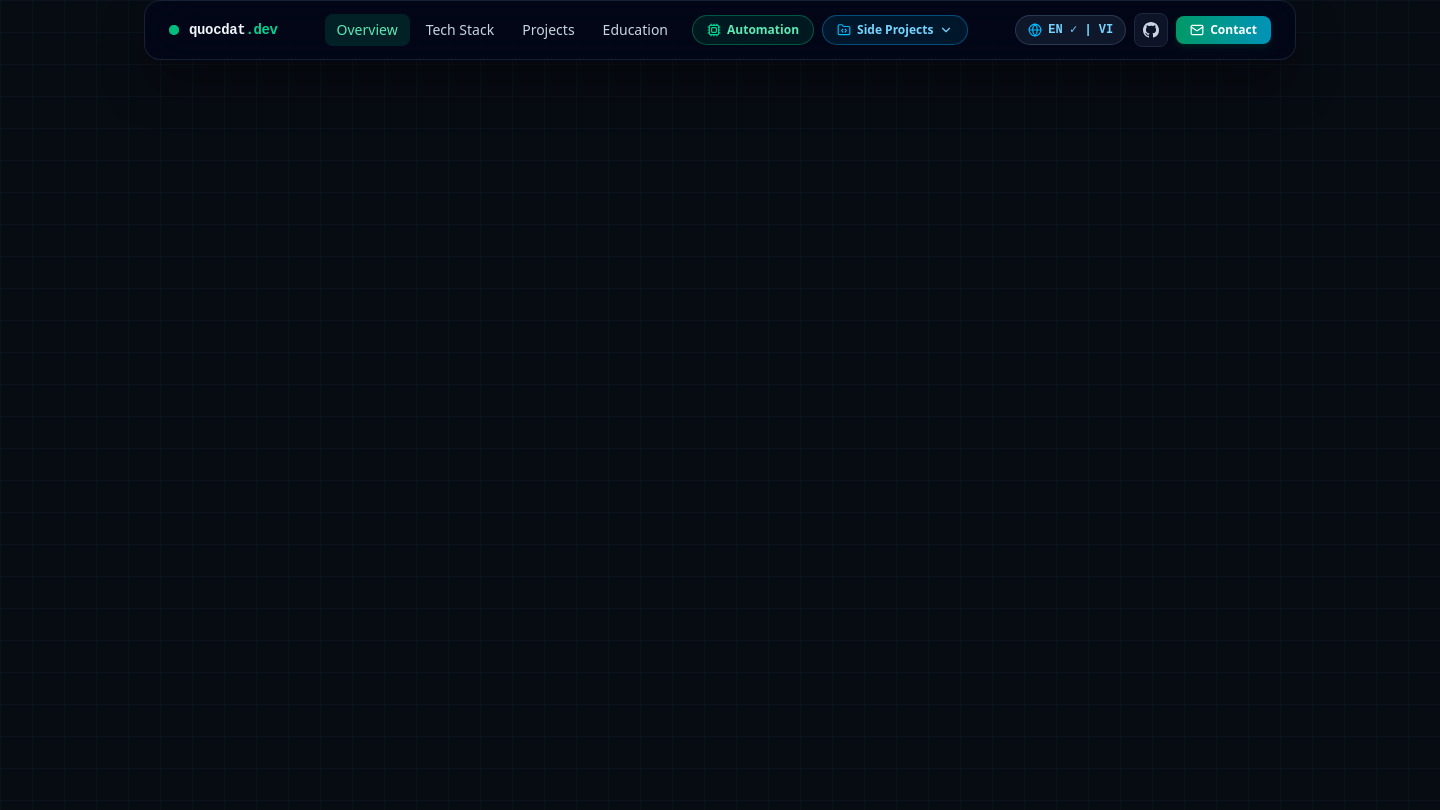
Test: Side Projects Page (/side-projects) › exposes the Side Projects menu in the navbar
Step 1. Click the button "Side Projects" → [895, 30], box [822,15,968,45]
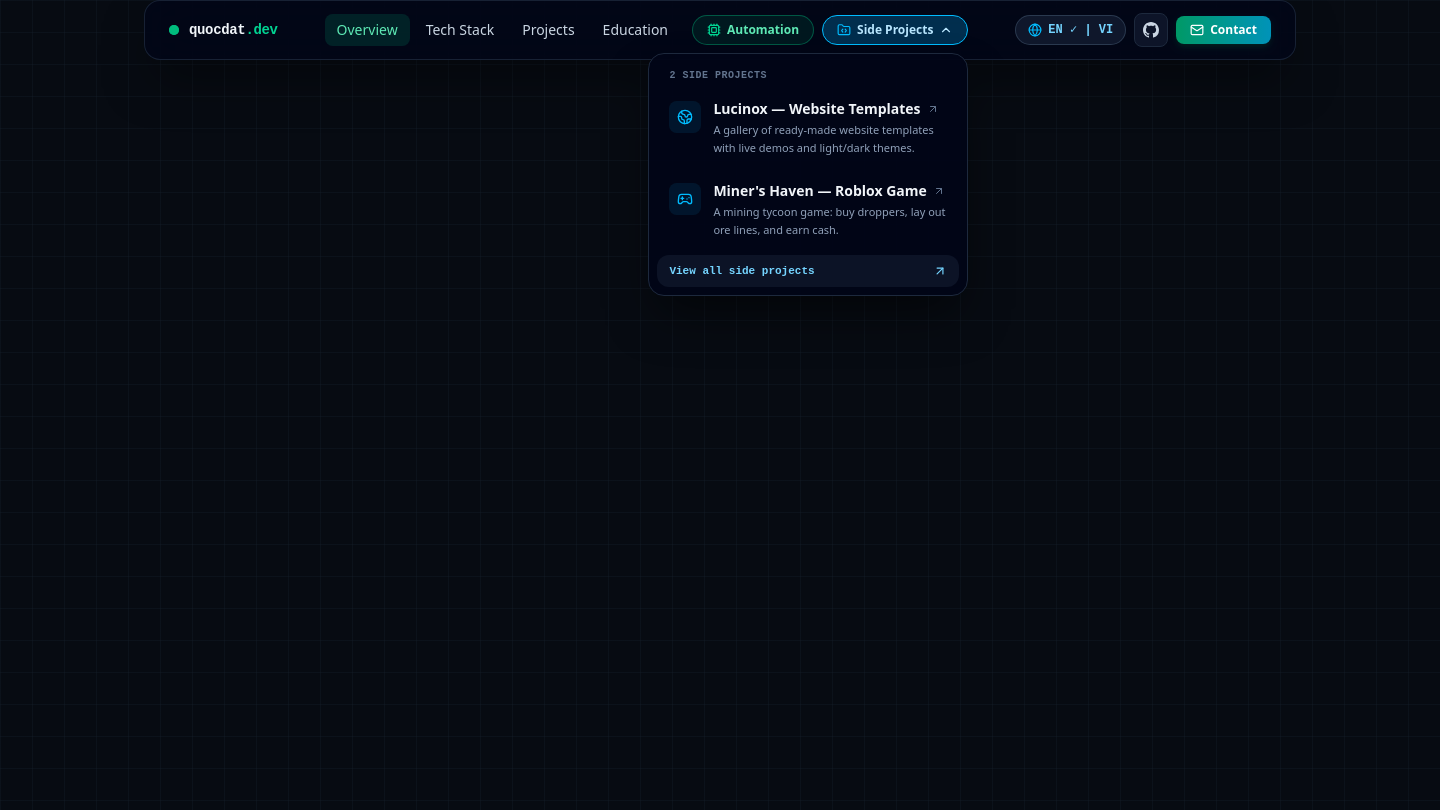
Check: the button "Side Projects" is expanded, box [822,15,968,45]
